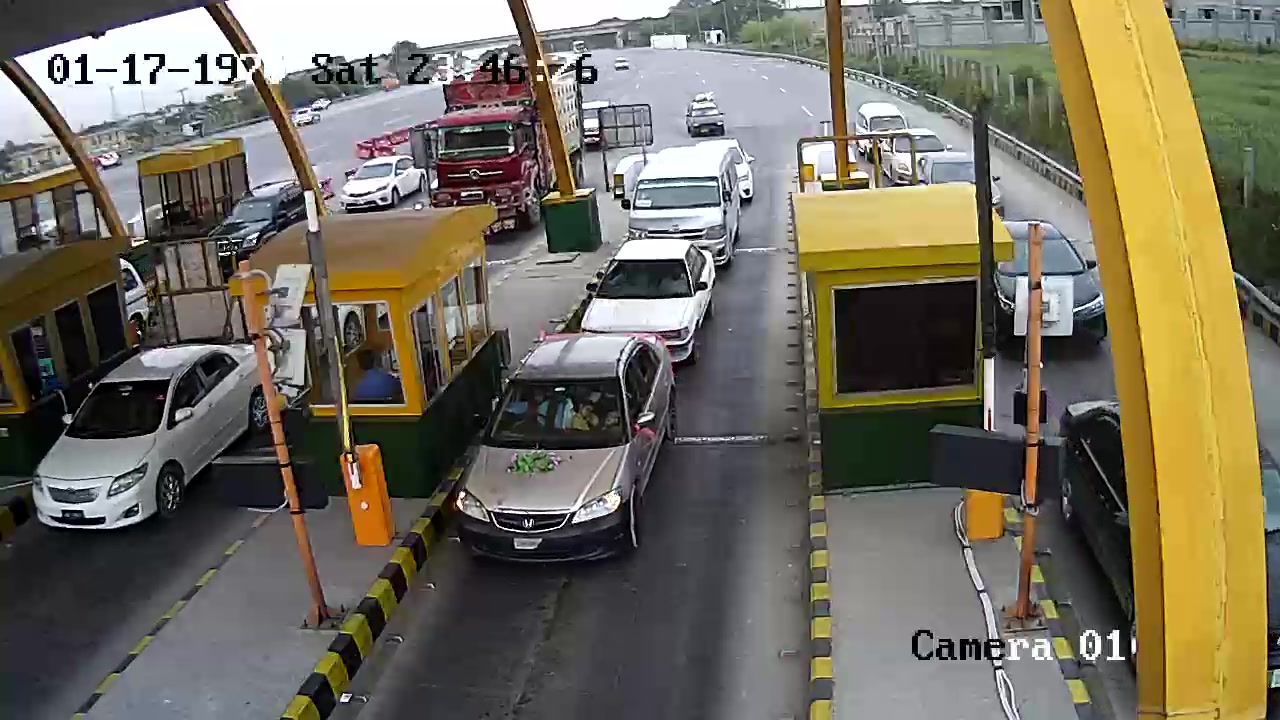F1: (461, 327, 683, 562)
